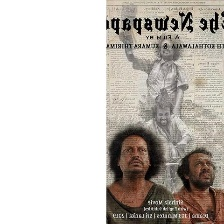news_paper: (106, 0, 223, 223)
